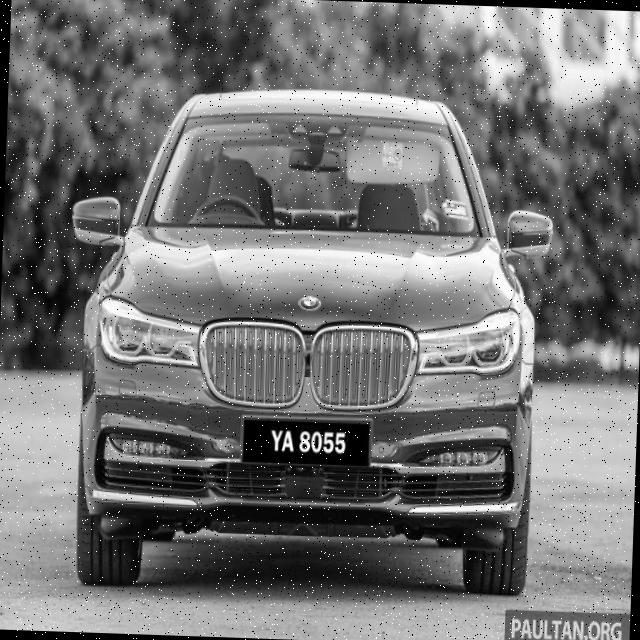License_Plate: (231, 410, 380, 472)
car: (60, 73, 558, 601)
